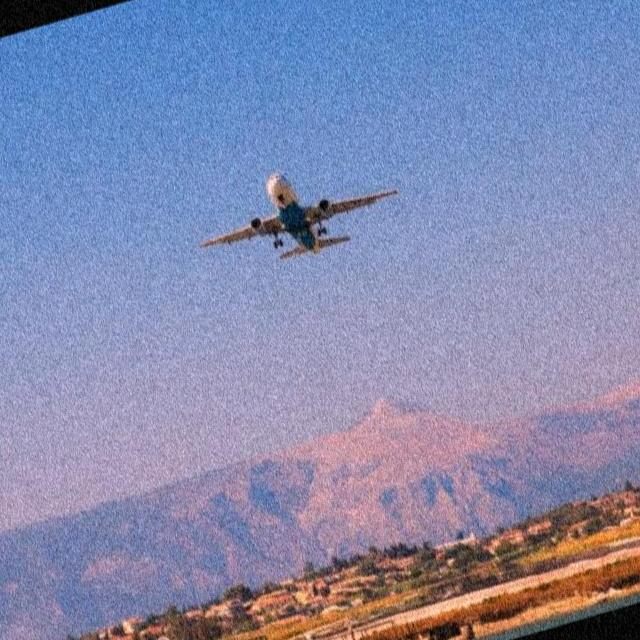airplane: (193, 166, 404, 263)
